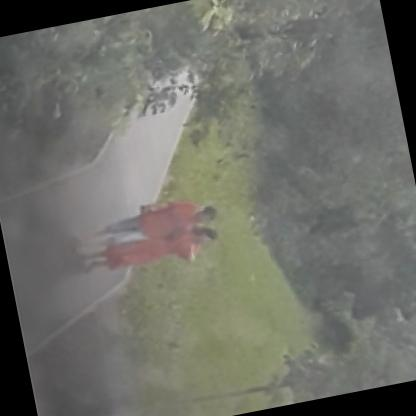Human Body: (68, 214, 228, 288), (82, 190, 226, 261)
